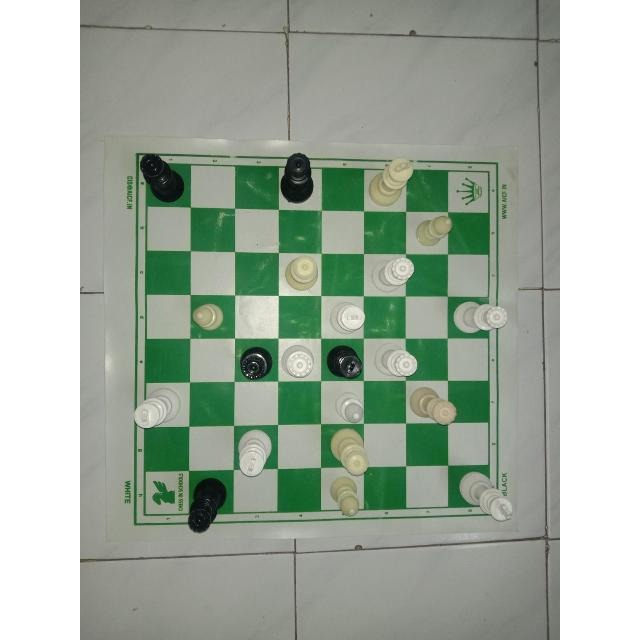black-king: (325, 342, 367, 384)
black-queen: (136, 144, 186, 202), (186, 476, 229, 542), (276, 148, 322, 206), (230, 338, 279, 388)
white-bishop: (327, 474, 365, 522), (188, 299, 227, 337), (413, 212, 453, 249), (330, 387, 366, 427)
white-king: (454, 469, 516, 525), (369, 149, 415, 211), (130, 389, 184, 436), (236, 425, 278, 480), (328, 299, 368, 340)
white-queen: (330, 426, 376, 478), (407, 386, 459, 430), (449, 298, 509, 336), (277, 254, 325, 297), (277, 344, 322, 383), (372, 254, 416, 293), (378, 343, 418, 383)
